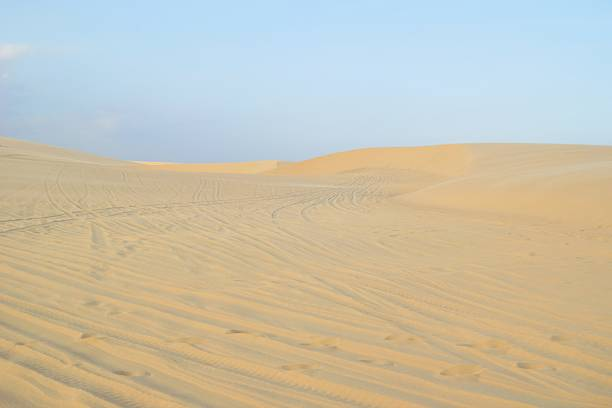vehicle_track: (188, 173, 501, 363), (101, 283, 517, 394), (18, 291, 379, 402), (0, 310, 255, 407), (273, 189, 461, 315), (300, 189, 431, 284)
